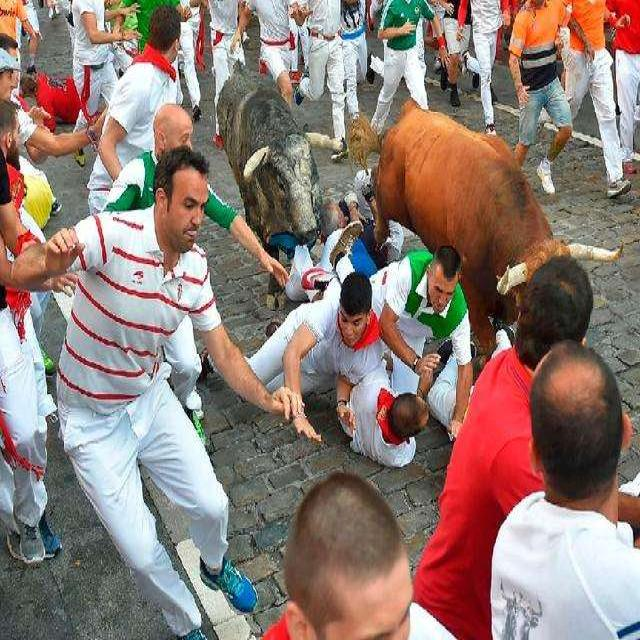10-: (0, 0, 634, 632)
down: (216, 271, 373, 415), (376, 238, 477, 406), (324, 359, 427, 468), (314, 184, 380, 265)
